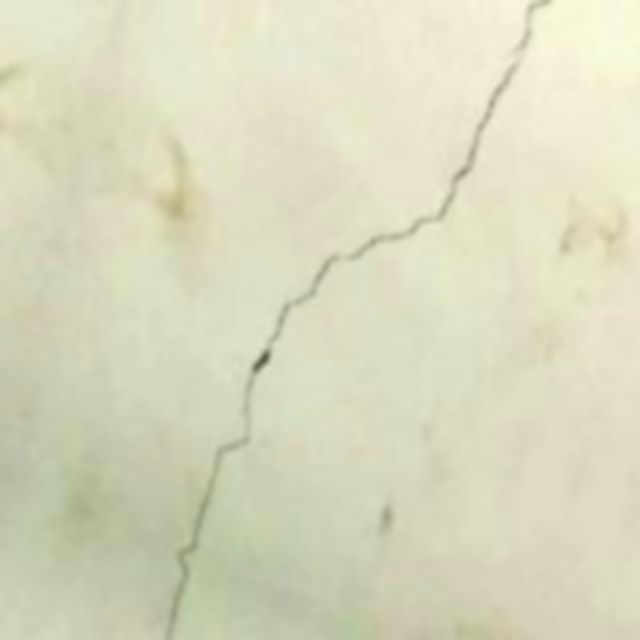SurfaceCrack: (132, 0, 568, 640)
